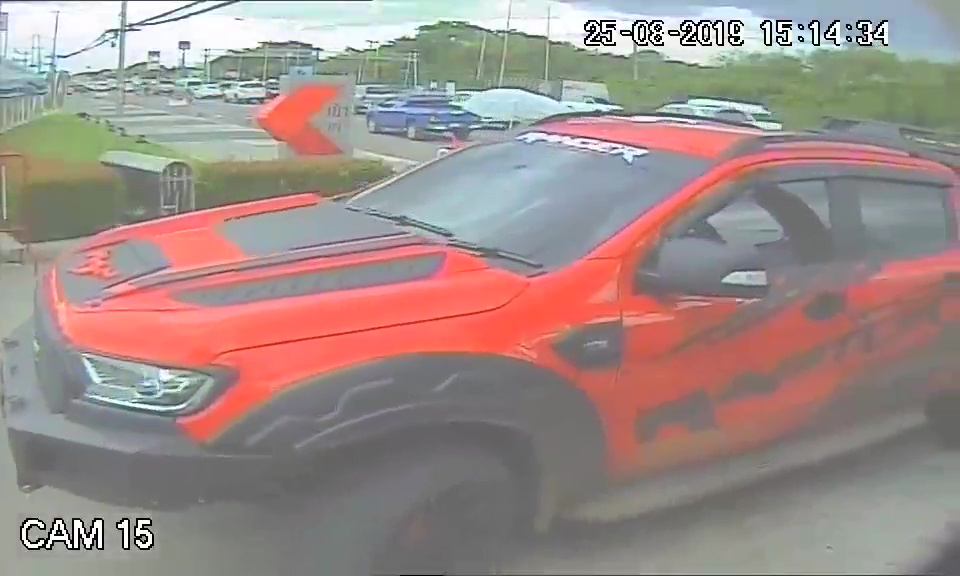pickup: (11, 104, 952, 536)
